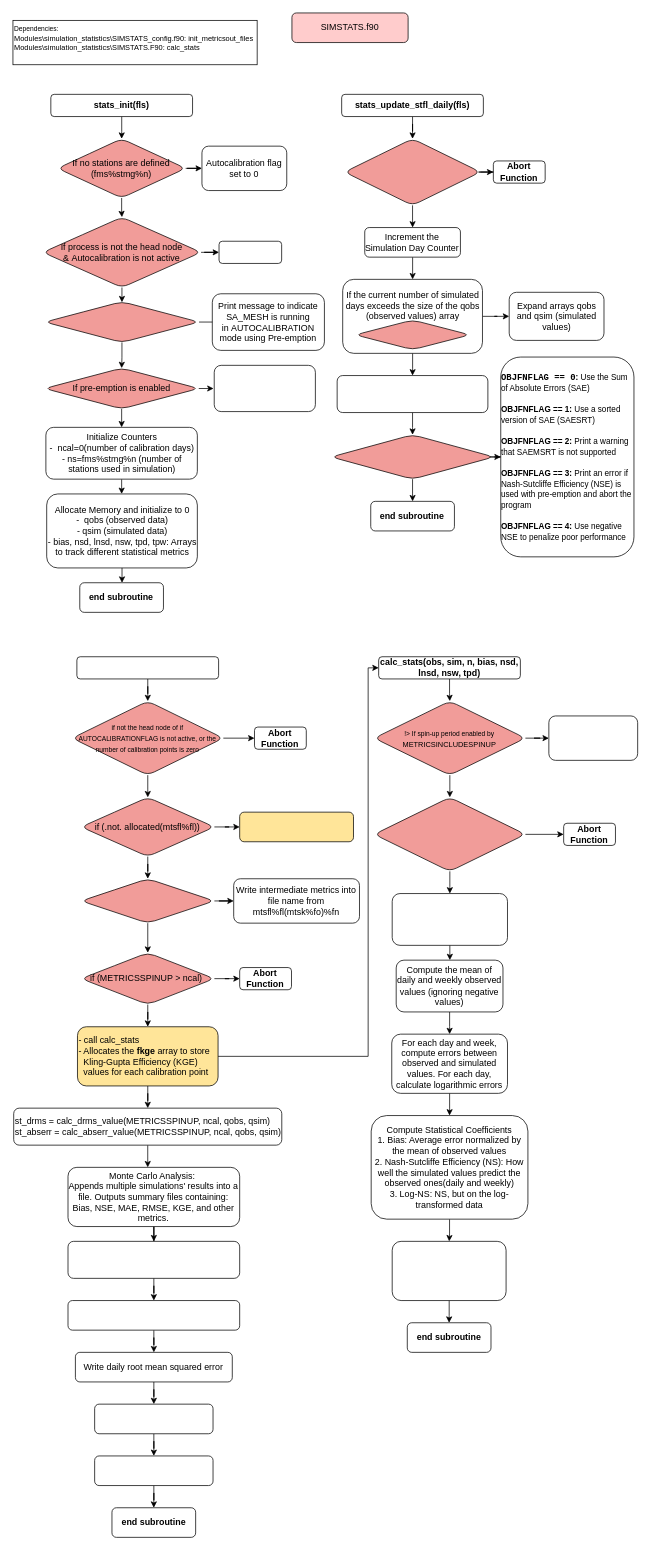
Some shapes in this 651 by 1550 pixel diagram are drawn without their labels. The shapes that lost their labels are listed below. From the top down, each one's centre as x and y in pixels, then its label:
At (x=412, y=171): "If not Head Node and AUTOCALIBRATIONFLAG not active".
At (x=250, y=251): "Return".
At (x=121, y=321): "If pre-emption mode is active".
At (x=412, y=334): "if (ncal > size(qobs, 1))".
At (x=264, y=388): "Open file and read the best calibration value and store into ( fbest )".
At (x=412, y=394): "Copy measured and simulated values to local arrays qobs and qsim".
At (x=412, y=456): "if (mtsflg%PREEMPTIONFLAG == 1)".
At (x=147, y=667): "stats_write(fls)".
At (x=593, y=737): "ilf variable defines where the analysis starts".
At (x=296, y=826): "call init_metricsout_files()".
At (x=449, y=834): "!> If spin-up period is longer than dataset if (METRICSSPINUP > ncal)".
At (x=147, y=900): "If pre-emption is active".
At (x=449, y=919): "Calculate the weekly values for daily observed and simulated values".
At (x=153, y=1259): "Write Nash-Sutcliffe coefficient of daily streamflow values".
At (x=448, y=1271): "Calculate Time-to-Peak daily and weekly (TPD and TPW)".
At (x=153, y=1315): "Write Nash-Sutcliffe coefficient of weekly streamflow values".
At (x=153, y=1418): "Write mean absolute error".
At (x=153, y=1470): "Write the summary of the metrics to file".
